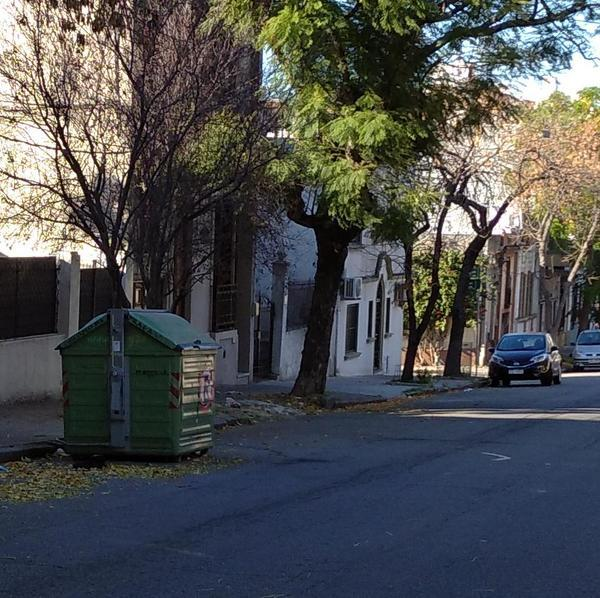Trash: (56, 309, 220, 461)
